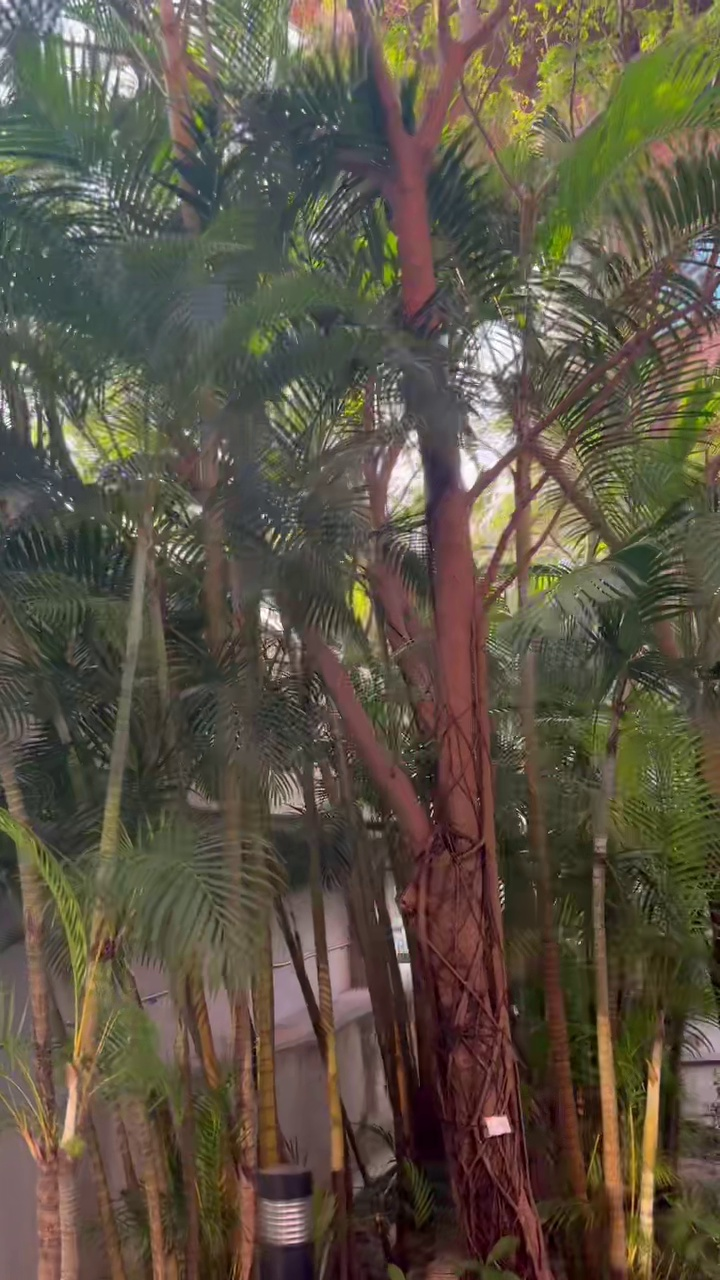Ficus benjamina: (307, 0, 552, 1279)
